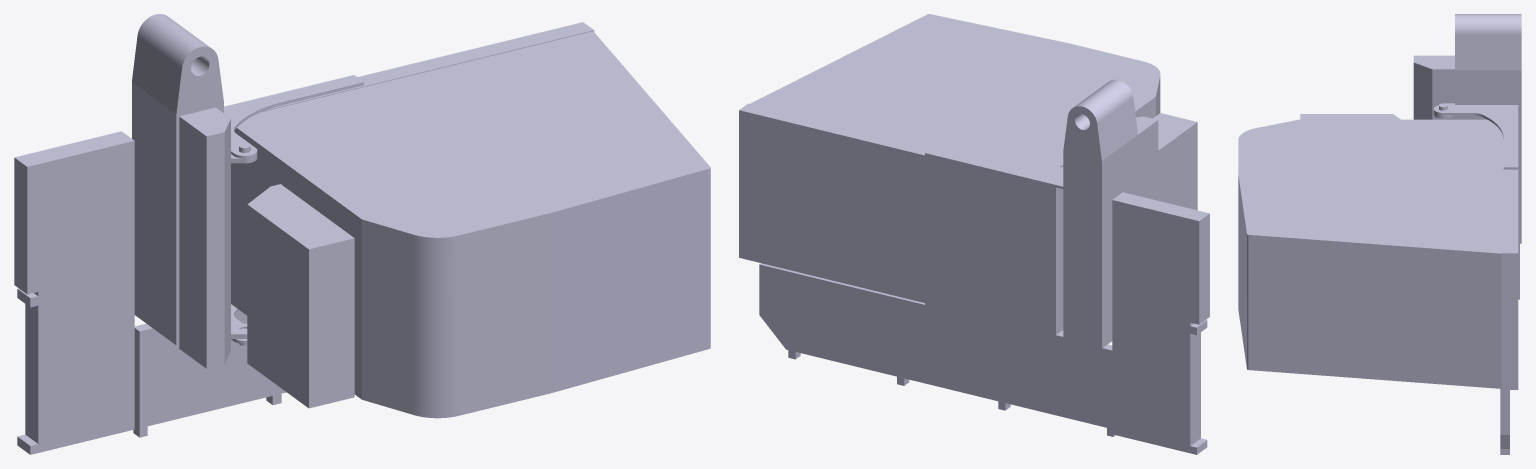
Rendered from CAB.obj.
3 views of the same model, side by side, from view 1: azimuth 30°, elevation 25°; view 2: azimuth 150°, elevation 25°; view 3: azimuth 270°, elevation 25° (orthographic). The views are drawn at different scales.
Parts seen in each view (by area): view 1: SCX2000-3_CAB_CR_000_1-HSC_SCX2000-3_CAB_MODEL (Meshed); view 2: SCX2000-3_CAB_CR_000_1-HSC_SCX2000-3_CAB_MODEL (Meshed); view 3: SCX2000-3_CAB_CR_000_1-HSC_SCX2000-3_CAB_MODEL (Meshed).
Boxes of the visible parts, <box> form: SCX2000-3_CAB_CR_000_1-HSC_SCX2000-3_CAB_MODEL (Meshed): <box>14,14,710,454</box>; SCX2000-3_CAB_CR_000_1-HSC_SCX2000-3_CAB_MODEL (Meshed): <box>739,14,1209,454</box>; SCX2000-3_CAB_CR_000_1-HSC_SCX2000-3_CAB_MODEL (Meshed): <box>1238,14,1521,454</box>.
Size of the model in its own units: 3098 by 2113 by 1786.
